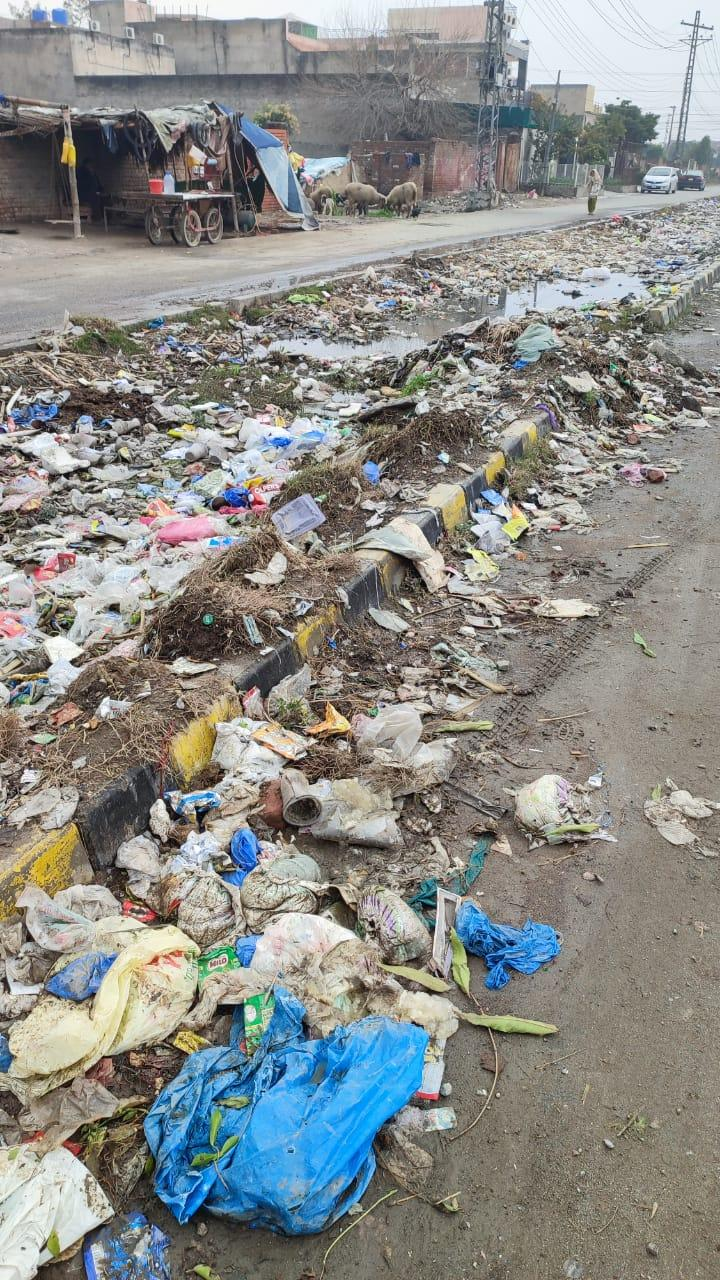garbage: (6, 265, 623, 1233)
